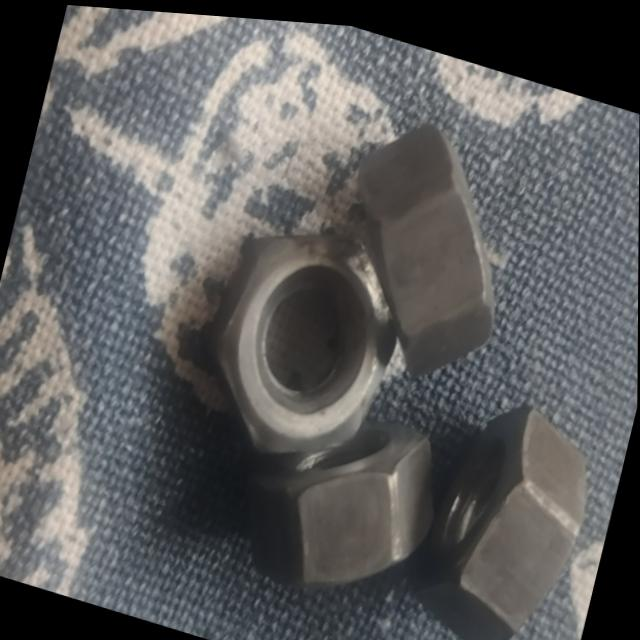disinfected nut: (413, 398, 586, 633), (214, 228, 395, 448), (356, 117, 494, 367), (248, 415, 433, 581)
